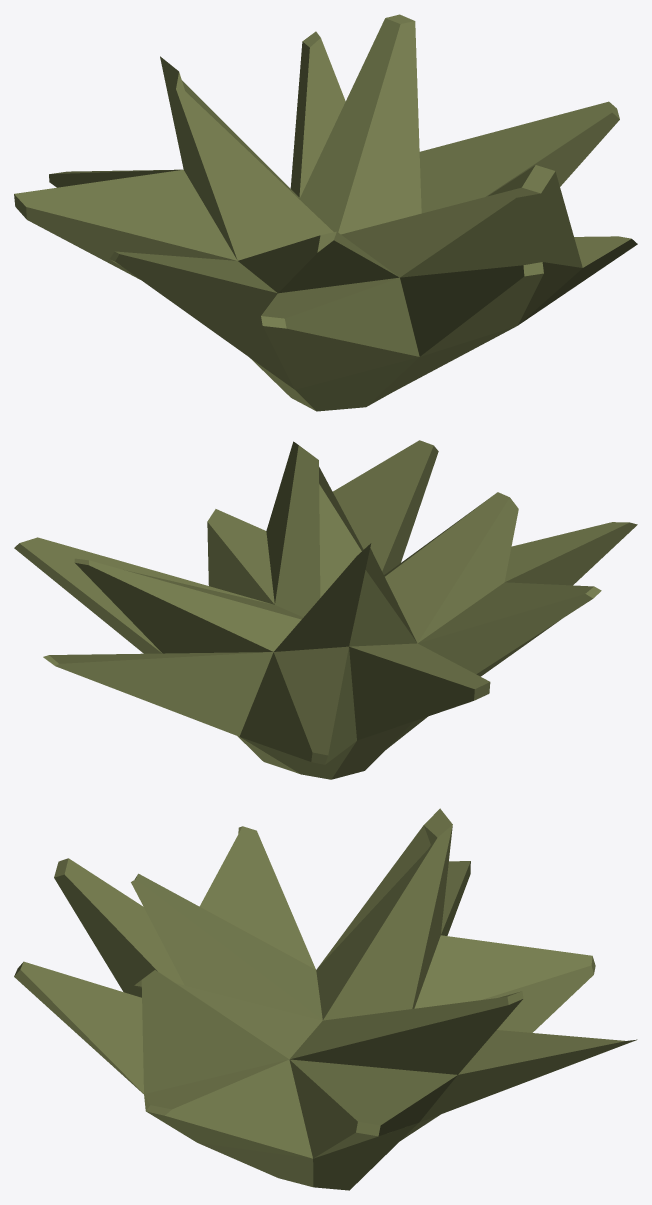
The model's file is Grass_01.fbx.
3 renders of one model, top to bottom at view 1: azimuth 30°, elevation 25°; view 2: azimuth 150°, elevation 25°; view 3: azimuth 270°, elevation 25°, orthographic. The views are drawn at different scales.
Visible parts, largest first — view 1: Grass_01a; view 2: Grass_01a; view 3: Grass_01a.
Boxes of the visible parts, <box> form: Grass_01a: <box>14,14,637,411</box>; Grass_01a: <box>14,440,637,779</box>; Grass_01a: <box>14,808,637,1190</box>.
Bounding box in the file's own units: 40.42 × 21.79 × 39.48.
